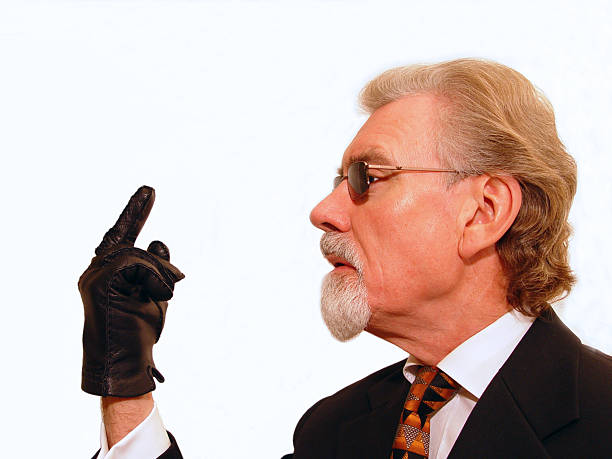insulting_gesture: (79, 182, 188, 367)
